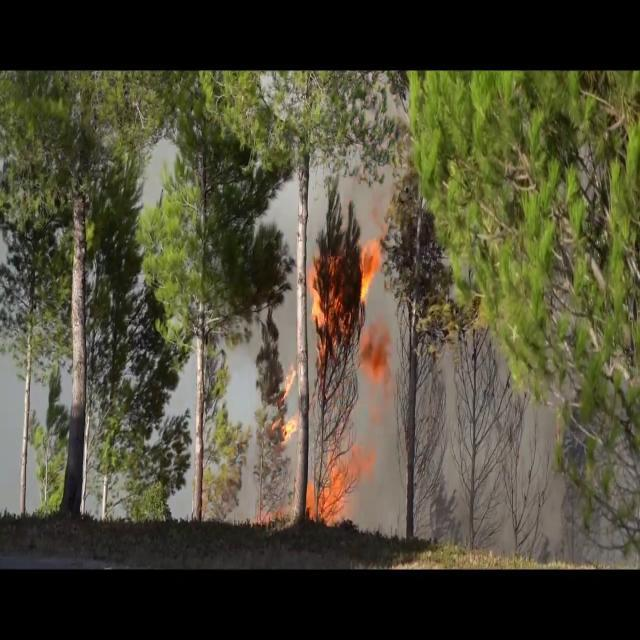Fire: (305, 199, 387, 361)
Smoke: (369, 304, 599, 558)
